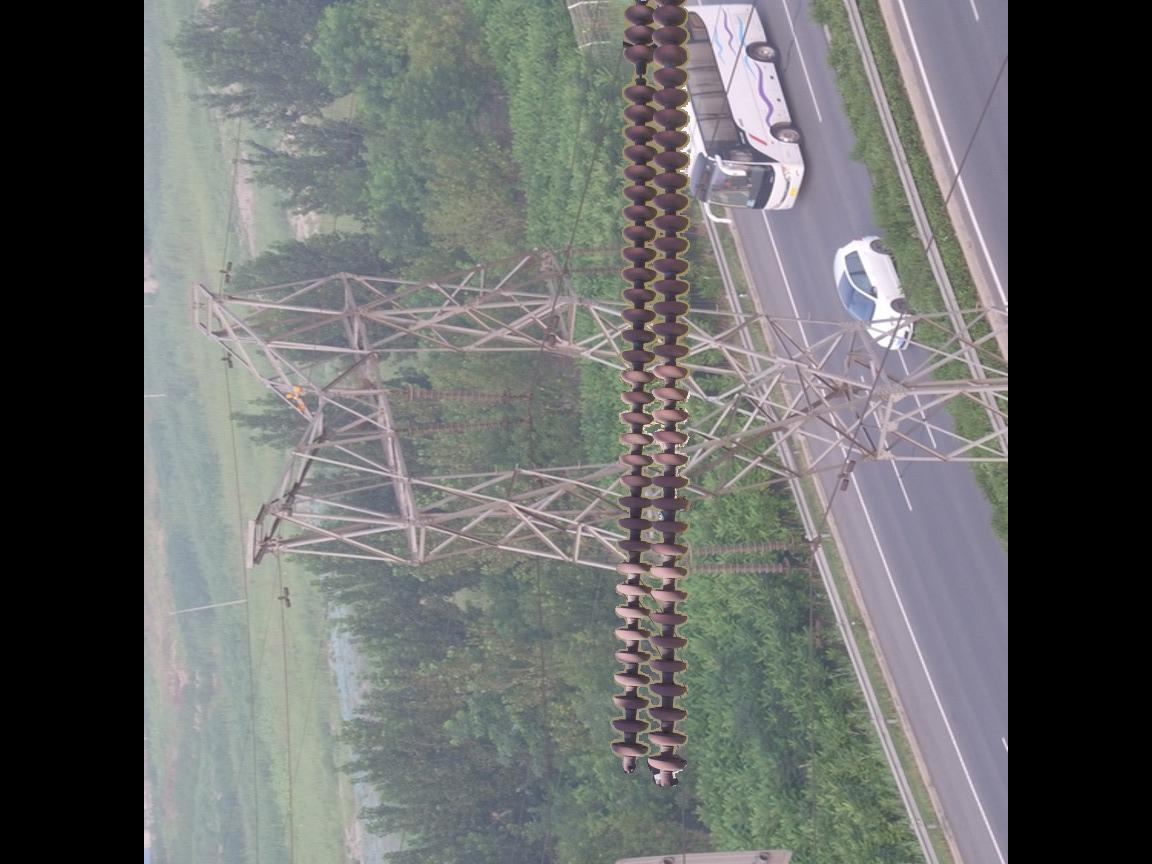insulator: (605, 1, 697, 787), (403, 383, 520, 439), (691, 537, 798, 581)
insulator_stringdrop: (618, 42, 656, 103)
